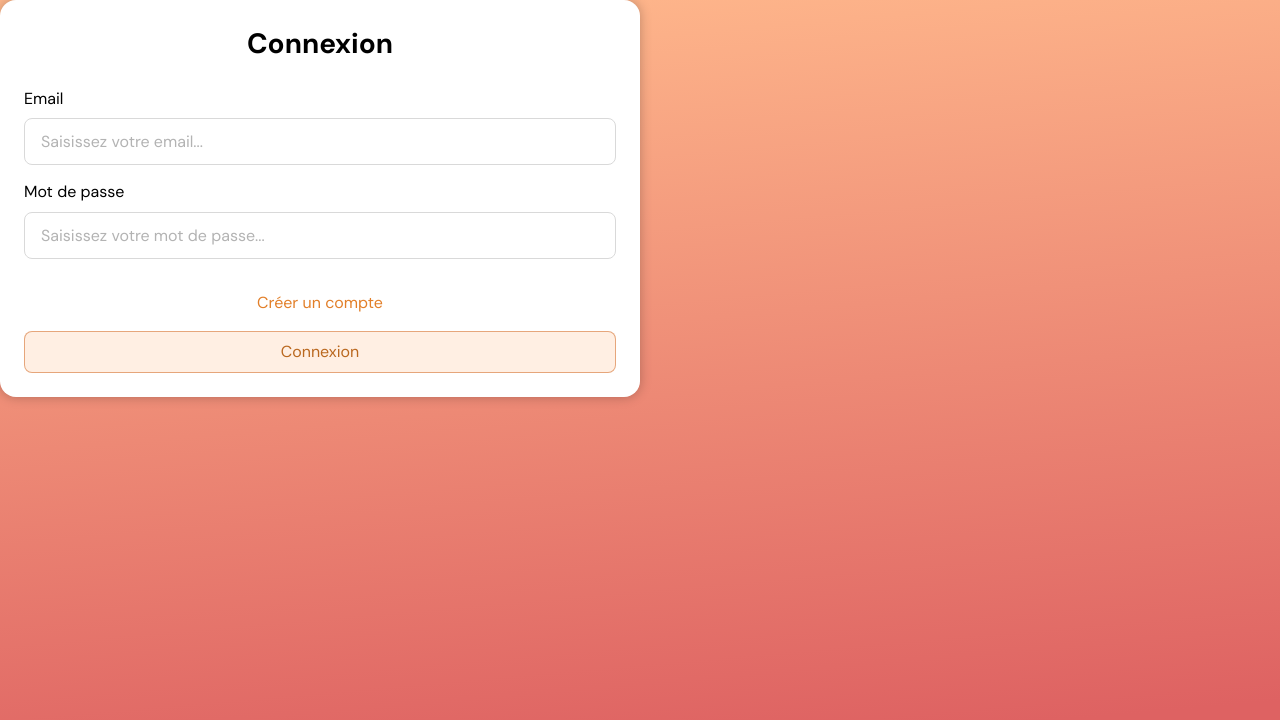
Test case: Login › erreur réseau → message générique
Type "lea@example.com" into the field with placeholder "Saisissez votre email..." at (320, 142), box 24,118 -> 616,165
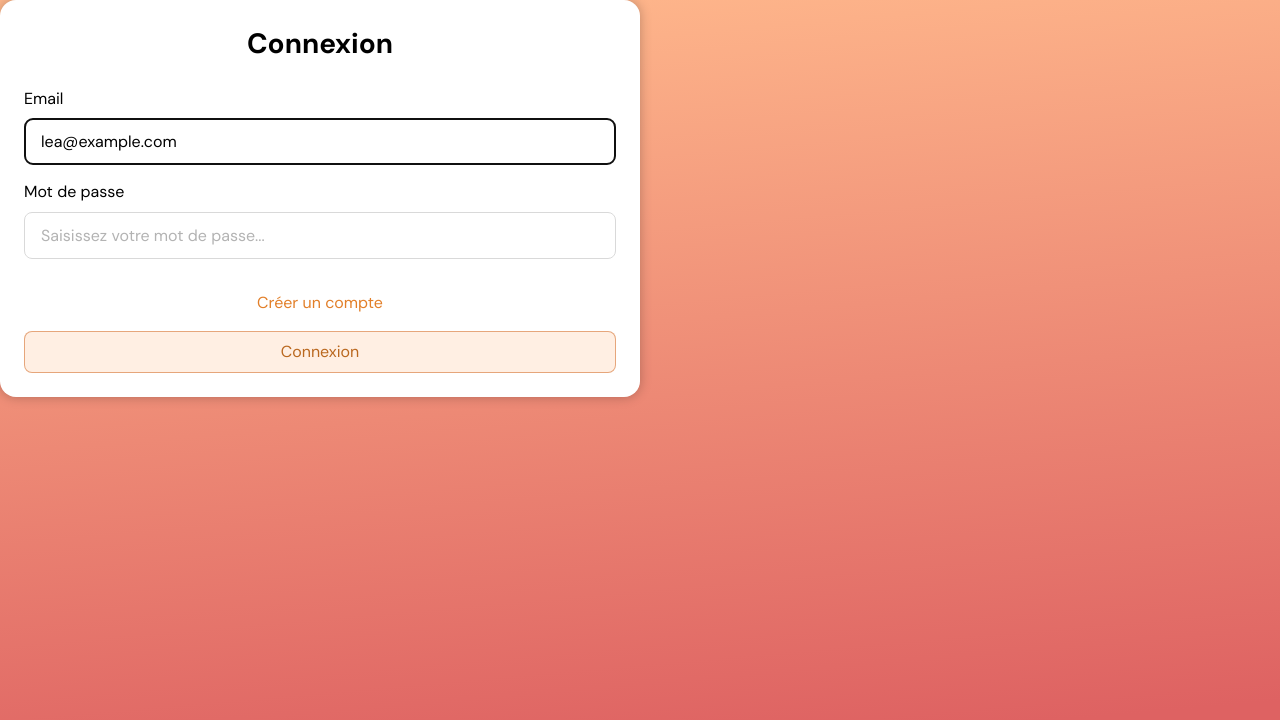
Type "motdepasse123" into the password field with placeholder "Saisissez votre mot de passe..." at (320, 235), box 24,212 -> 616,259
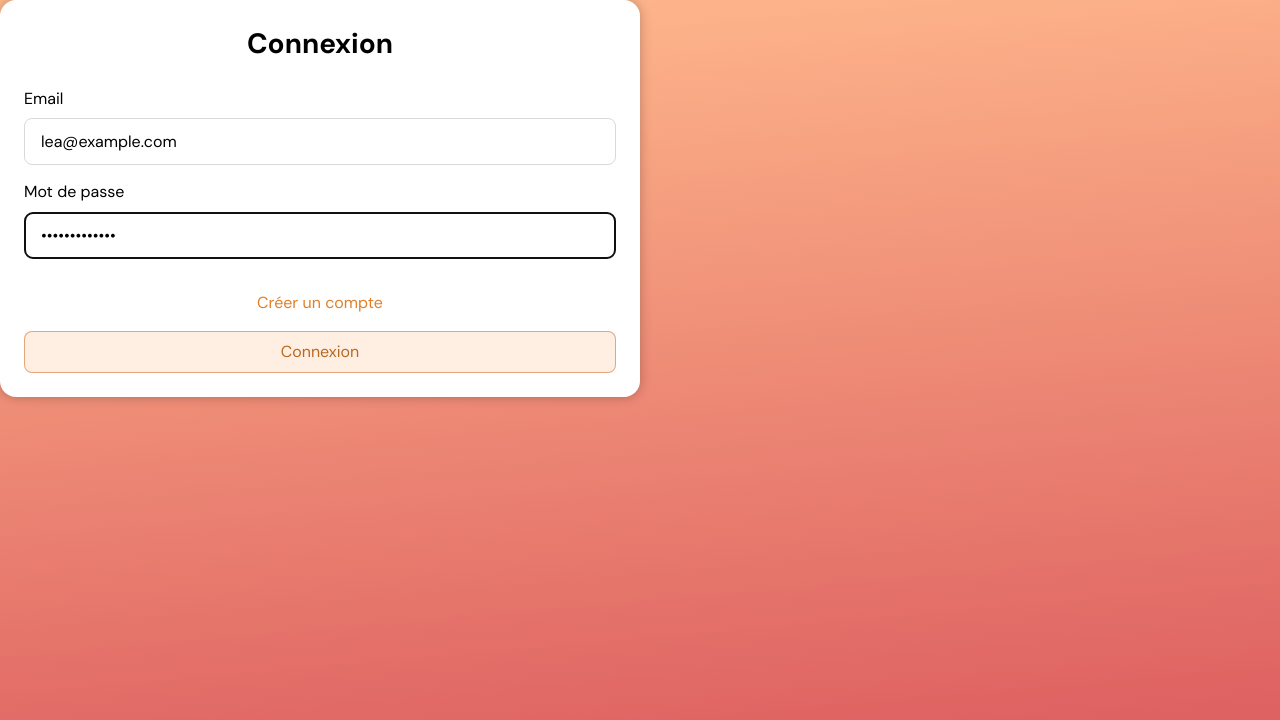
Click the button "Connexion" at (320, 352), box 24,331 -> 616,373
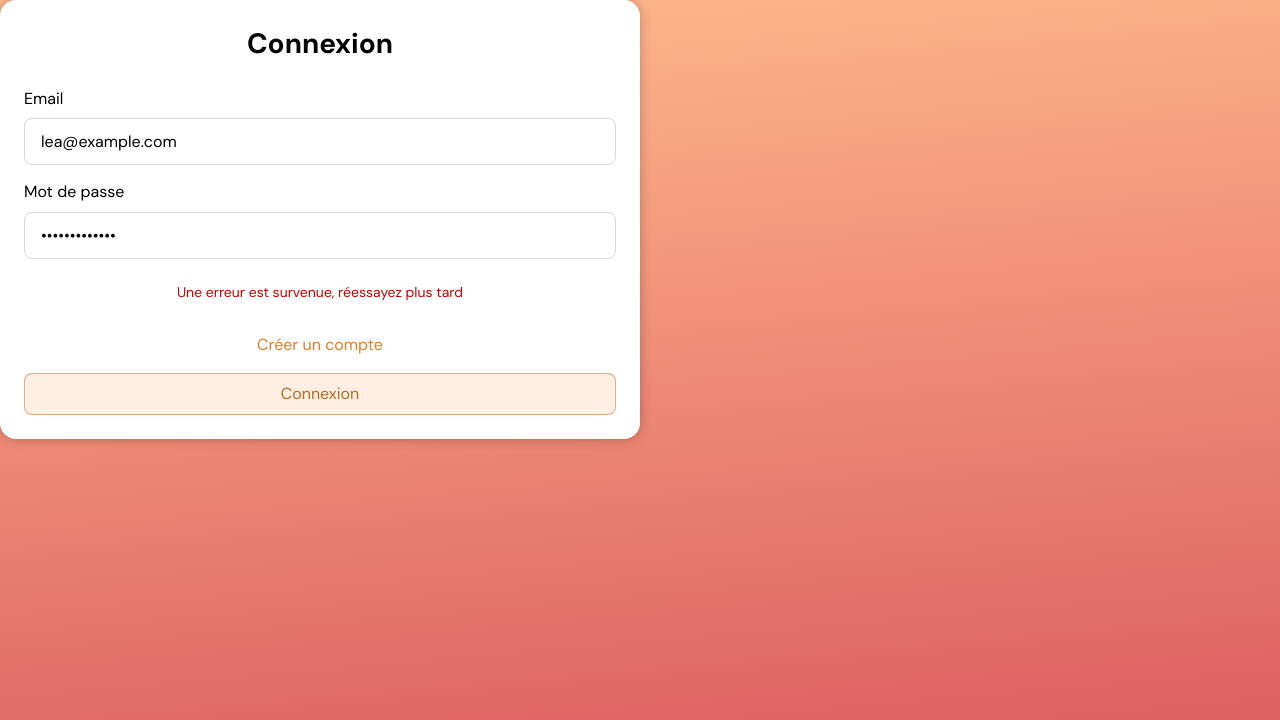
Expected: the text "Une erreur est survenue, réessayez plus tard" is shown, 177,283 -> 463,301
